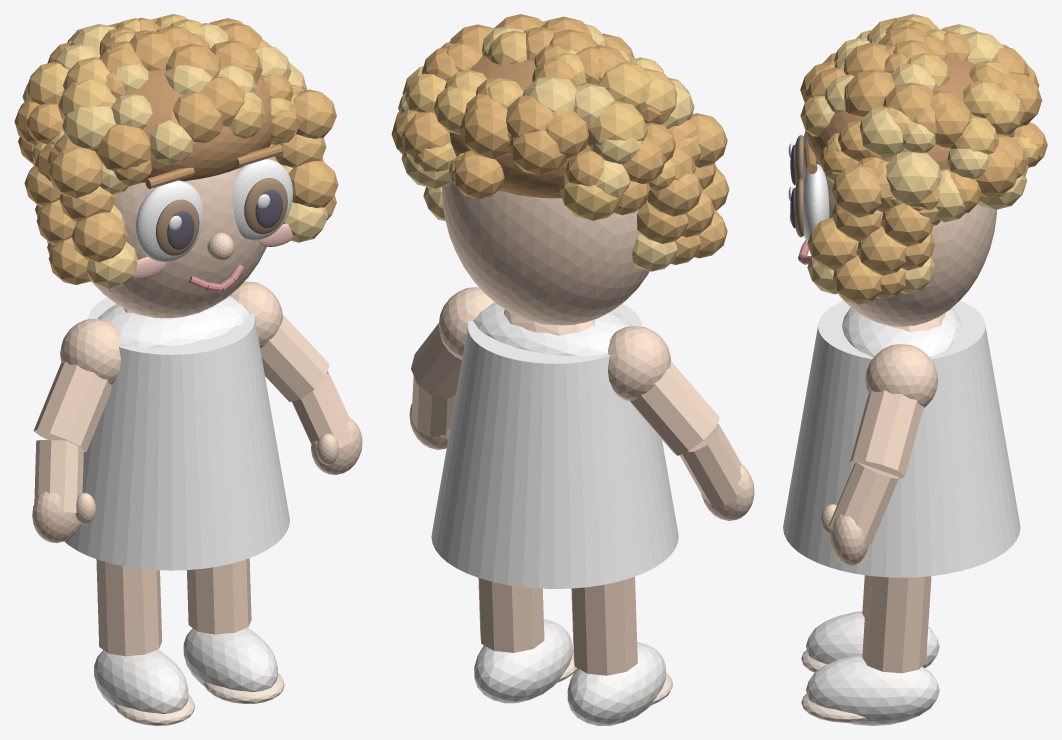
File: ela.glb
The picture shows the model from 3 angles, left to right: view 1: azimuth 30°, elevation 25°; view 2: azimuth 150°, elevation 25°; view 3: azimuth 270°, elevation 25°; orthographic projection. The views are drawn at different scales.
Visible parts, largest first — view 1: Ela_002_polka_dot_dress, Ela_048_head, Ela_032_leg, Ela_068_curly_hair_base, Ela_033_sneaker, Ela_036_sneaker, Ela_039_upper_arm, Ela_035_leg, Ela_003_neckline, Ela_044_upper_arm, Ela_040_forearm, Ela_038_shoulder (+51 smaller); view 2: Ela_002_polka_dot_dress, Ela_048_head, Ela_032_leg, Ela_036_sneaker, Ela_033_sneaker, Ela_039_upper_arm, Ela_035_leg, Ela_003_neckline, Ela_038_shoulder, Ela_068_curly_hair_base, Ela_040_forearm, Ela_044_upper_arm (+45 smaller); view 3: Ela_002_polka_dot_dress, Ela_048_head, Ela_036_sneaker, Ela_035_leg, Ela_044_upper_arm, Ela_043_shoulder, Ela_003_neckline, Ela_045_forearm, Ela_033_sneaker, Ela_068_curly_hair_base, Ela_111_individual_curl, Ela_191_side_ringlet (+44 smaller).
Boxes of the visible parts, x1=… form: Ela_002_polka_dot_dress: x1=64, y1=297, x2=289, y2=570; Ela_048_head: x1=91, y1=144, x2=276, y2=318; Ela_032_leg: x1=96, y1=559, x2=162, y2=656; Ela_068_curly_hair_base: x1=116, y1=69, x2=272, y2=182; Ela_033_sneaker: x1=94, y1=649, x2=188, y2=713; Ela_036_sneaker: x1=183, y1=628, x2=277, y2=691; Ela_039_upper_arm: x1=33, y1=361, x2=111, y2=451; Ela_035_leg: x1=187, y1=558, x2=251, y2=634; Ela_003_neckline: x1=98, y1=296, x2=249, y2=347; Ela_044_upper_arm: x1=260, y1=315, x2=329, y2=401; Ela_040_forearm: x1=34, y1=440, x2=83, y2=512; Ela_038_shoulder: x1=60, y1=318, x2=120, y2=384; Ela_002_polka_dot_dress: x1=431, y1=303, x2=678, y2=588; Ela_048_head: x1=442, y1=182, x2=649, y2=325; Ela_032_leg: x1=571, y1=576, x2=637, y2=675; Ela_036_sneaker: x1=474, y1=619, x2=572, y2=703; Ela_033_sneaker: x1=567, y1=642, x2=665, y2=725; Ela_039_upper_arm: x1=629, y1=361, x2=719, y2=455; Ela_035_leg: x1=478, y1=578, x2=544, y2=652; Ela_003_neckline: x1=473, y1=302, x2=631, y2=356; Ela_038_shoulder: x1=608, y1=326, x2=671, y2=400; Ela_068_curly_hair_base: x1=449, y1=46, x2=646, y2=198; Ela_040_forearm: x1=679, y1=423, x2=741, y2=505; Ela_044_upper_arm: x1=411, y1=323, x2=461, y2=398; Ela_002_polka_dot_dress: x1=783, y1=300, x2=1020, y2=577; Ela_048_head: x1=816, y1=161, x2=996, y2=326; Ela_036_sneaker: x1=806, y1=655, x2=939, y2=725; Ela_035_leg: x1=862, y1=575, x2=931, y2=673; Ela_044_upper_arm: x1=850, y1=390, x2=923, y2=478; Ela_043_shoulder: x1=865, y1=344, x2=938, y2=407; Ela_003_neckline: x1=842, y1=307, x2=961, y2=357; Ela_045_forearm: x1=828, y1=462, x2=898, y2=544; Ela_033_sneaker: x1=806, y1=611, x2=939, y2=667; Ela_068_curly_hair_base: x1=805, y1=57, x2=1014, y2=170; Ela_111_individual_curl: x1=886, y1=151, x2=942, y2=204; Ela_191_side_ringlet: x1=832, y1=164, x2=881, y2=217.
Size of the model in its own units: 1.24 by 2.4 by 0.87.
